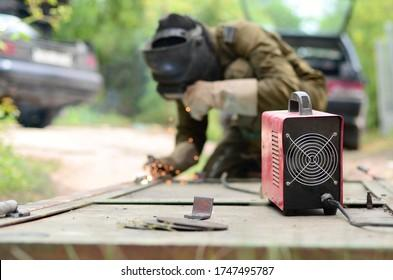gloves: (181, 78, 260, 121), (144, 140, 198, 178)
